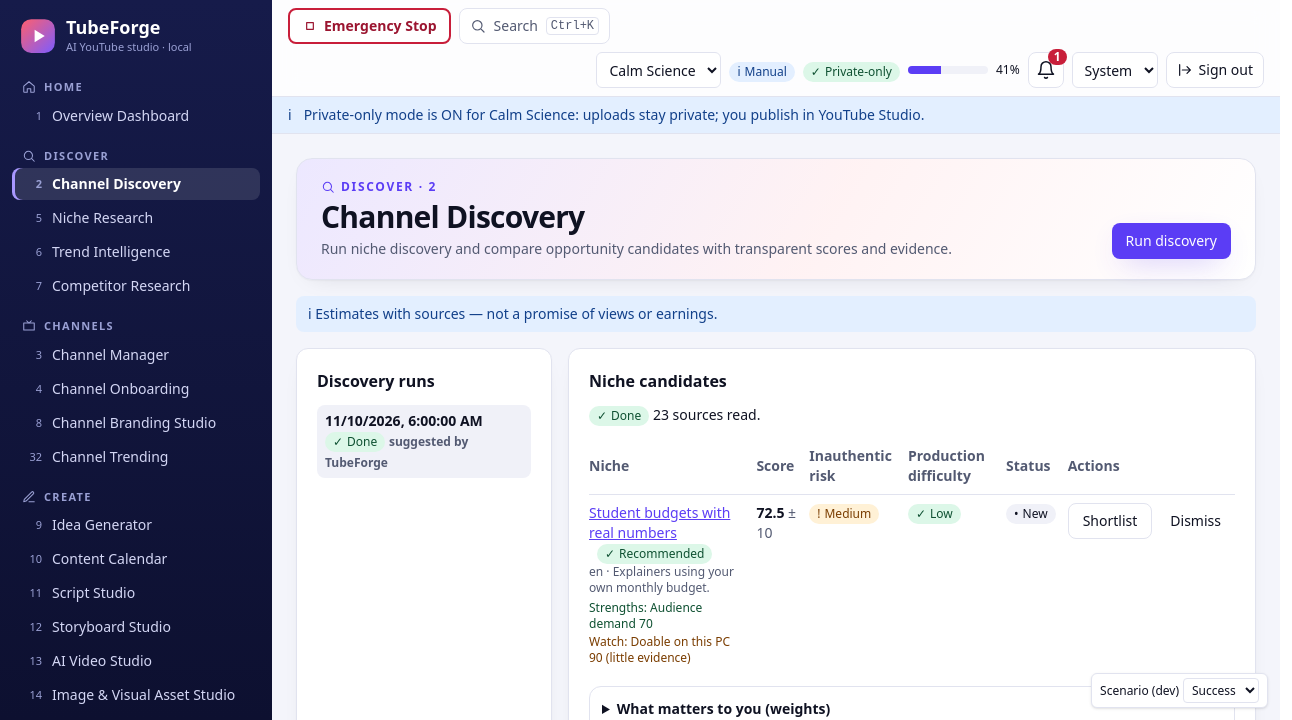
Test: Channel Discovery (real API) › shows candidates with score band, footer and the dropped list; shortlists and queues a blueprint
Expected: the table with test id "candidates-table" shows "Student budgets with real numbers", 589,503 -> 730,542
Expected: the element with test id "safety-note" is shown, 296,296 -> 1256,332
Click the button "Shortlist": [1110, 521] box 1068,503 -> 1152,539
(page scrolled)
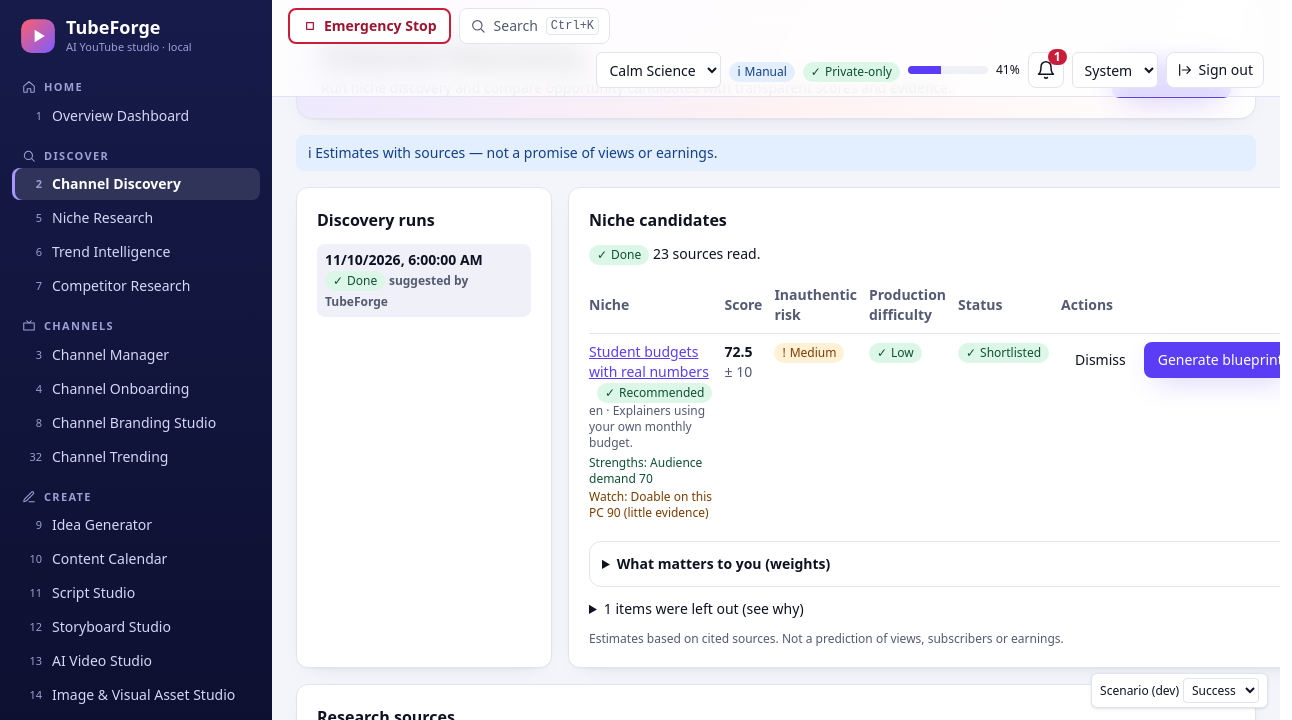
Click the button "Generate blueprint": [1212, 360] box 1144,342 -> 1280,378
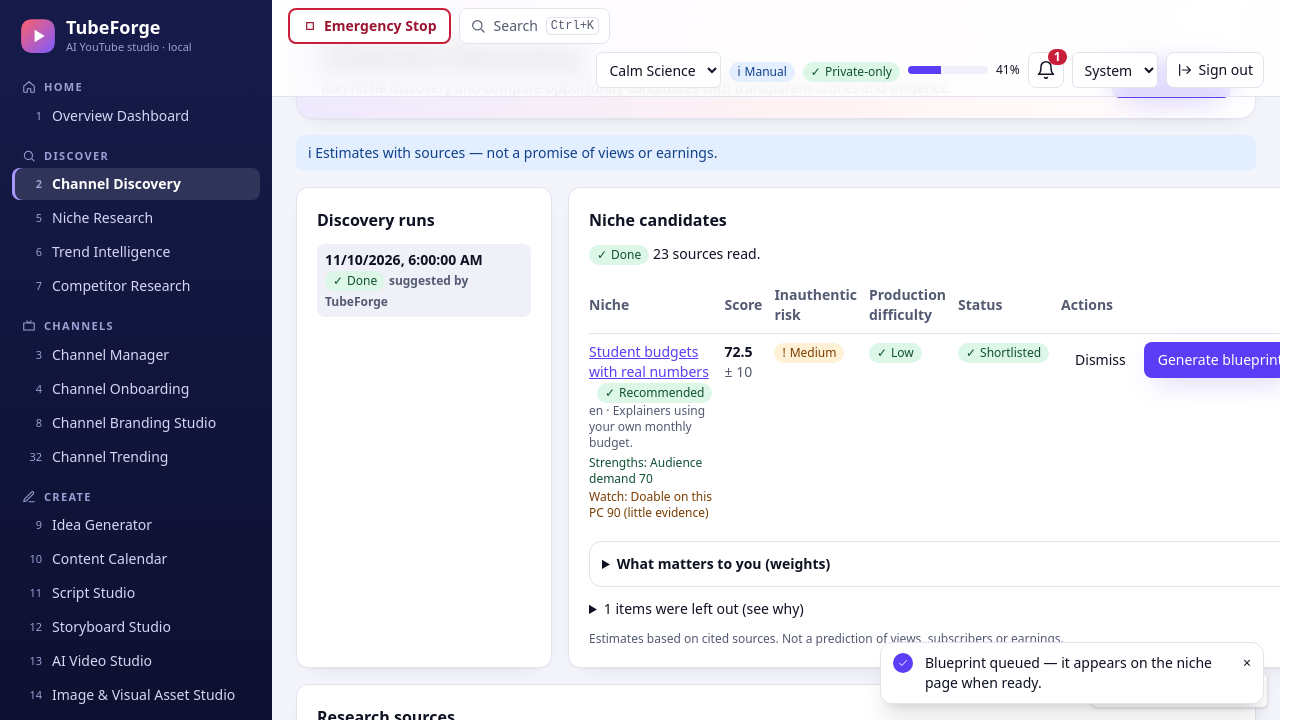
Now the text "Blueprint queued — it appears on the niche page when ready." is shown, box 925,653 -> 1231,693
